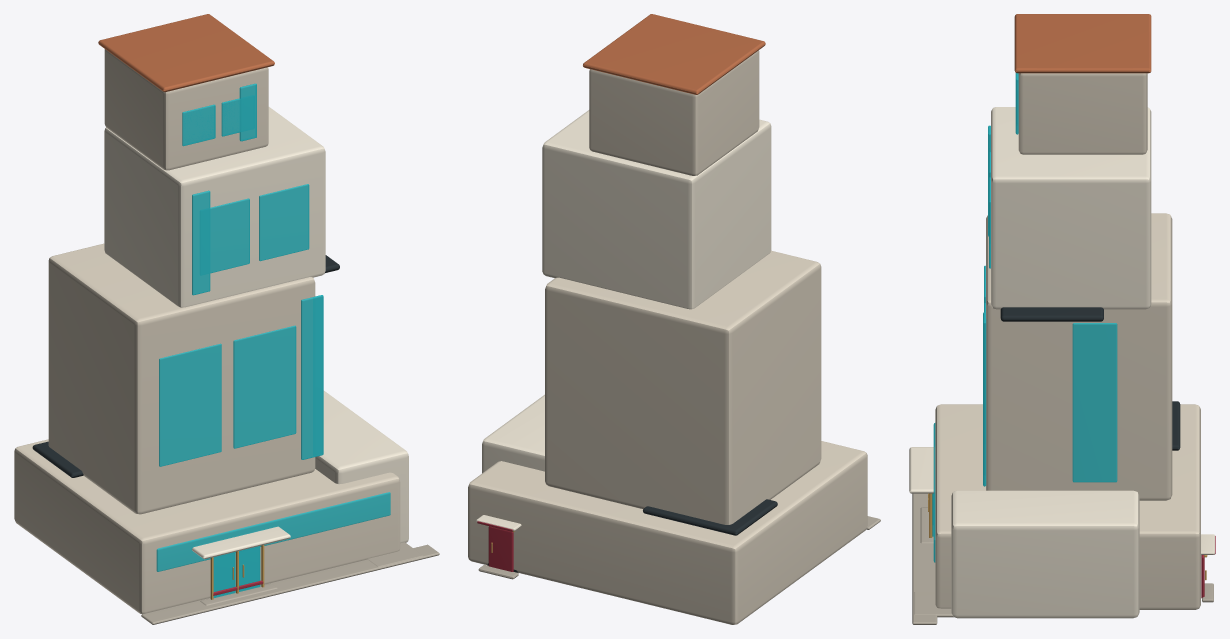
The picture shows the model from 3 angles, left to right: view 1: azimuth 30°, elevation 25°; view 2: azimuth 150°, elevation 25°; view 3: azimuth 270°, elevation 25°; orthographic projection. The views are drawn at different scales.
Parts seen in each view (by area): view 1: compact_podium_glass_tower_v1_LOD2; view 2: compact_podium_glass_tower_v1_LOD2; view 3: compact_podium_glass_tower_v1_LOD2.
Boxes of the visible parts, x1=… form: compact_podium_glass_tower_v1_LOD2: x1=14, y1=14, x2=439, y2=624; compact_podium_glass_tower_v1_LOD2: x1=468, y1=14, x2=880, y2=624; compact_podium_glass_tower_v1_LOD2: x1=909, y1=14, x2=1215, y2=624.
Bounding box in the file's own units: 17.2 × 27.81 × 15.44.
